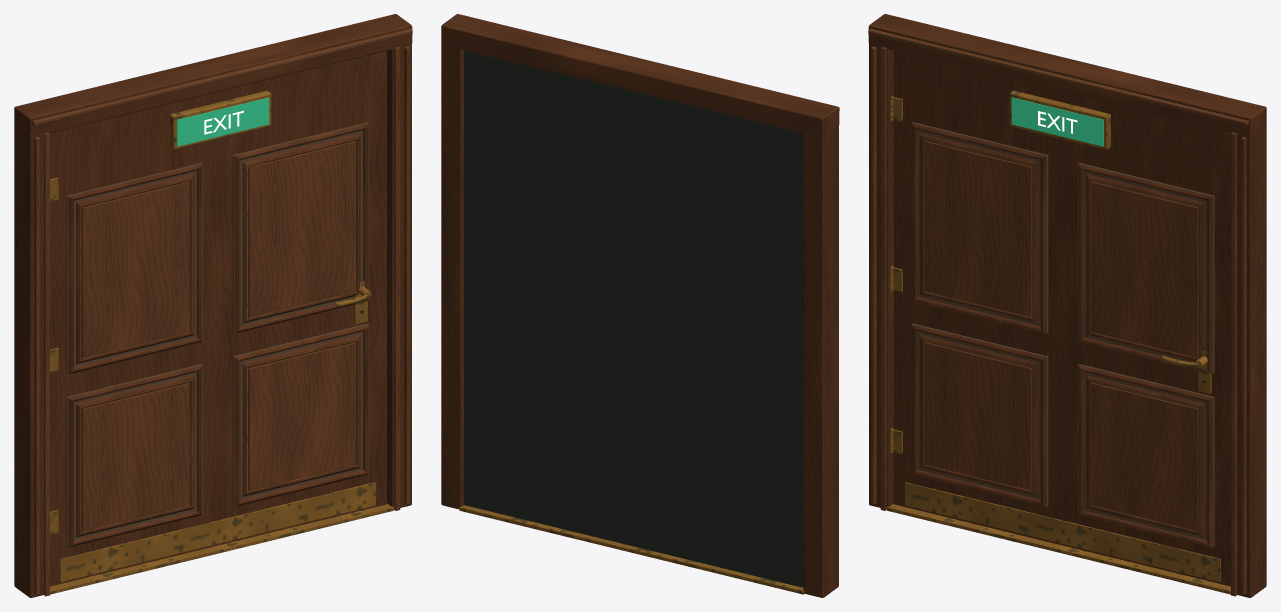
Rendered from exit_door.glb.
The picture shows the model from 3 angles, left to right: view 1: azimuth 30°, elevation 25°; view 2: azimuth 150°, elevation 25°; view 3: azimuth 330°, elevation 25°; orthographic projection.
Visible parts, largest first — view 1: exit_door_stained_walnut, exit_door_walnut_panels, exit_door_antique_brass, exit_door_panel_recesses, exit_door_exit_green; view 2: exit_door_door_seal, exit_door_stained_walnut, exit_door_antique_brass; view 3: exit_door_stained_walnut, exit_door_walnut_panels, exit_door_antique_brass, exit_door_panel_recesses, exit_door_exit_green.
Part boxes in pixels (x1,y1,x2,y2): exit_door_stained_walnut: (14, 14, 412, 597); exit_door_walnut_panels: (32, 28, 412, 596); exit_door_antique_brass: (50, 90, 393, 594); exit_door_panel_recesses: (66, 122, 369, 547); exit_door_exit_green: (177, 97, 269, 146); exit_door_door_seal: (464, 50, 803, 587); exit_door_stained_walnut: (441, 14, 839, 597); exit_door_antique_brass: (459, 505, 804, 594); exit_door_stained_walnut: (868, 14, 1266, 597); exit_door_walnut_panels: (868, 28, 1248, 596); exit_door_antique_brass: (887, 90, 1230, 594); exit_door_panel_recesses: (911, 122, 1214, 547); exit_door_exit_green: (1011, 97, 1103, 146).
Bounding box in the file's own units: 2 × 2.4 × 0.2238.
Materials: 7 (3 with a texture image).
